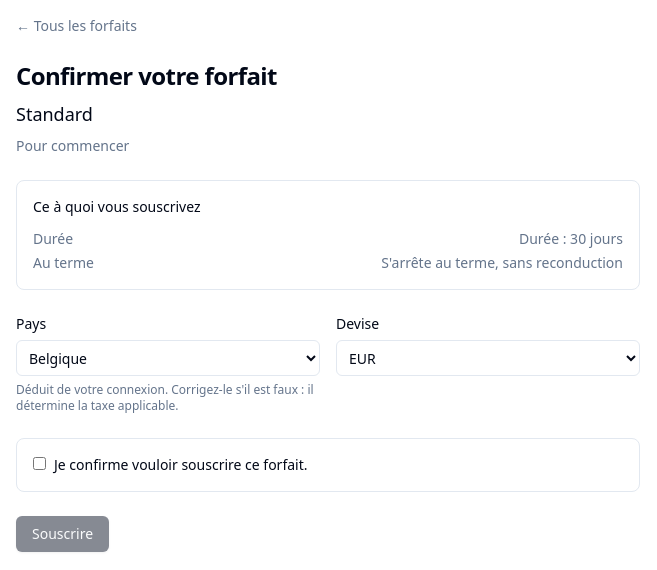
Scenario: SouscriptionPage › part avec la devise par défaut, modifiable
Select "USD" in the dropdown showing "EUR" at (488, 358), box [336,340,640,376]
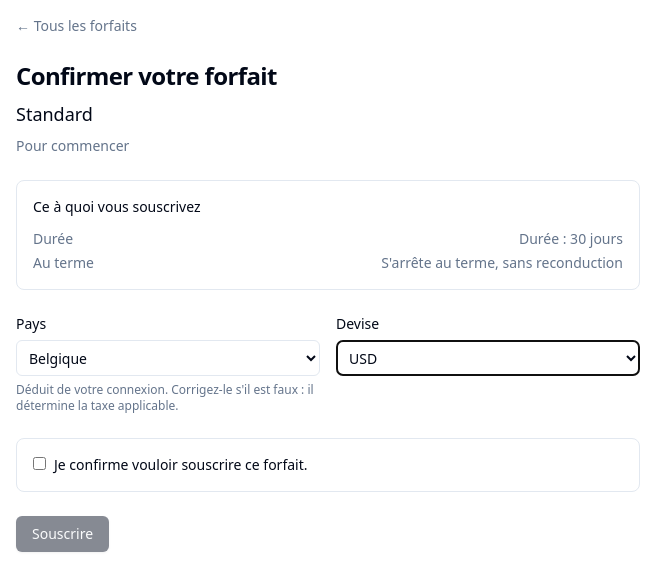
Click the checkbox at (40, 464), box [33,457,46,470]
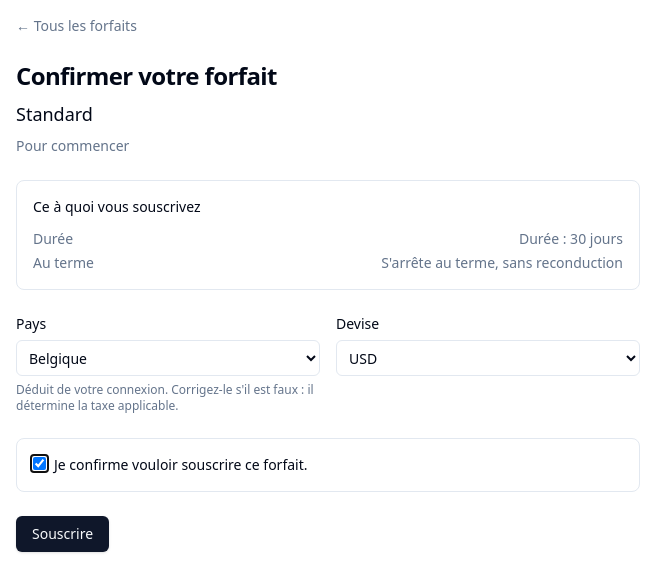
Click the button "Souscrire" at (62, 534), box [16,516,109,552]
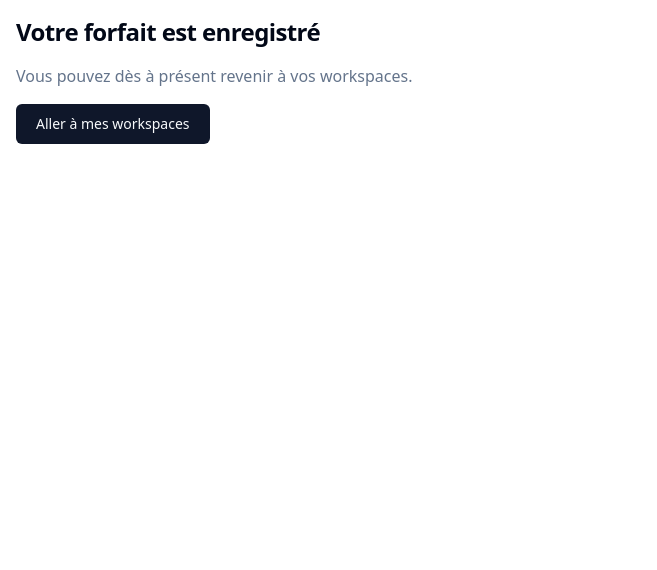
Now the heading "Votre forfait est enregistré" is shown, box [16,16,320,48]
